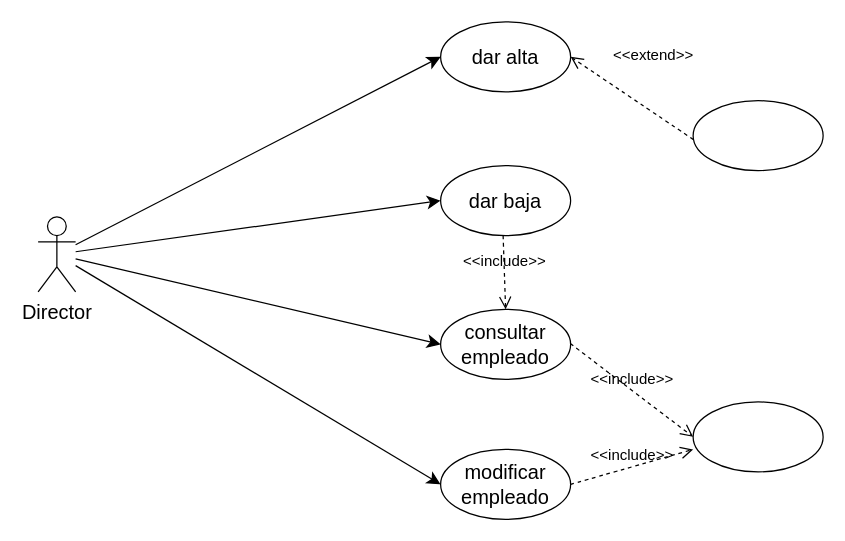
Some shapes in this 845 by 541 pixel diagram are drawn without their labels. The centre of each missing label's shape, as x and y in pixels:
"consultar detalle" belongs at point 757,135.
"eliminar del sistema" belongs at point 757,436.
